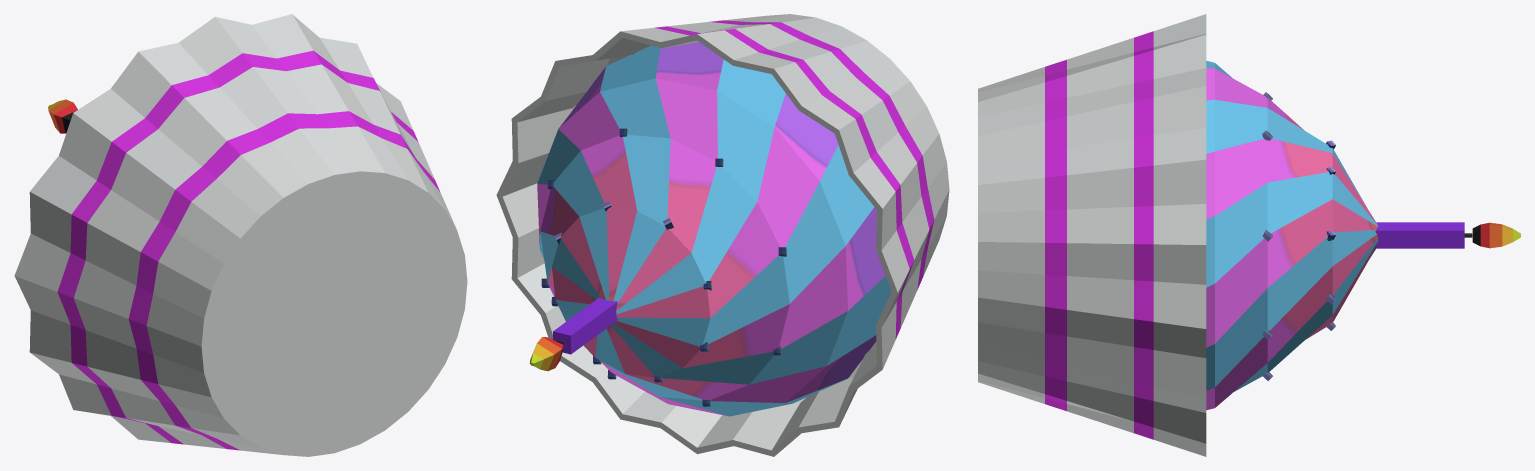
Rendered from cake.fbx.
3 renders of one model, left to right at view 1: azimuth 30°, elevation 25°; view 2: azimuth 150°, elevation 25°; view 3: azimuth 270°, elevation 25°, orthographic. The views are drawn at different scales.
Parts seen in each view (by area): view 1: cake; view 2: cake; view 3: cake.
Boxes of the visible parts, left/top/right/bottom form: cake: left=14, top=14, right=467, bottom=456; cake: left=496, top=14, right=949, bottom=456; cake: left=978, top=14, right=1520, bottom=456.
Size of the model in its own units: 165 by 165 by 202.
